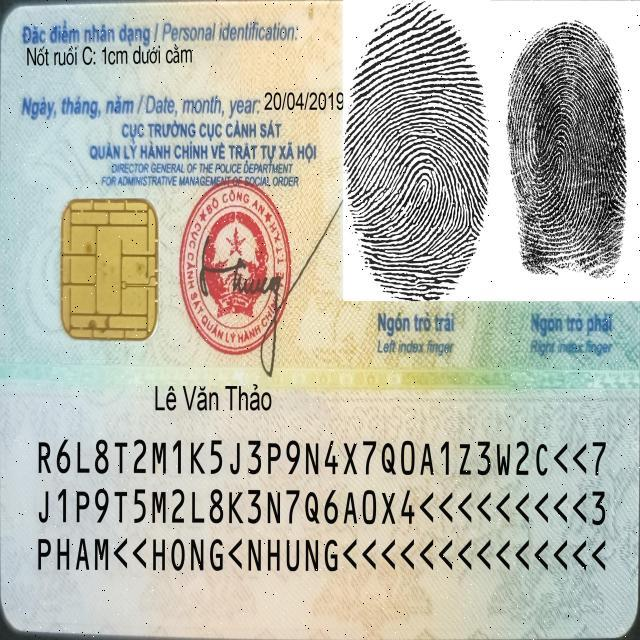features: (25, 44, 198, 72)
finger_print: (341, 2, 496, 361), (500, 2, 640, 360)
issue_date: (260, 85, 345, 115)
